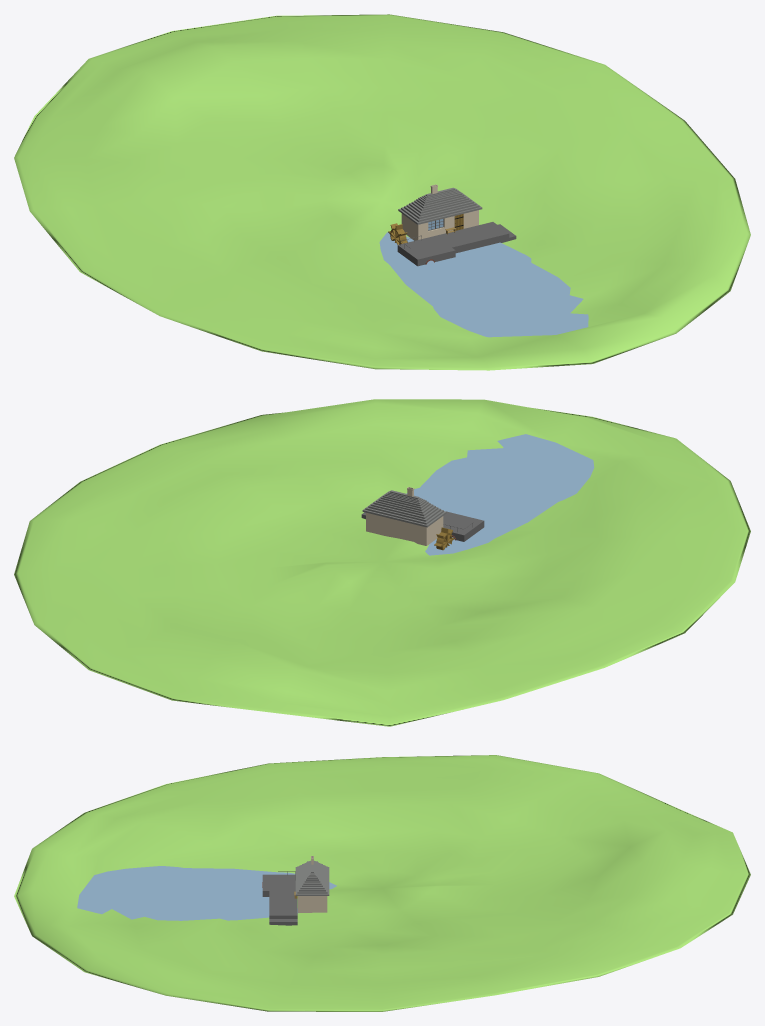
The picture shows the model from 3 angles, top to bottom: view 1: azimuth 30°, elevation 25°; view 2: azimuth 150°, elevation 25°; view 3: azimuth 270°, elevation 25°; orthographic projection. The views are drawn at different scales.
Visible parts, largest first — view 1: hill, water, housebase, polySurface1; view 2: hill, water, housebase, polySurface1; view 3: hill, water, housebase, polySurface1.
Part boxes in pixels (x1,y1,x2,y2): hill: (14,14,750,370); water: (379,232,588,337); housebase: (398,184,482,240); polySurface1: (397,222,516,266); hill: (14,399,750,726); water: (406,434,594,555); housebase: (362,487,446,545); polySurface1: (361,511,484,541); hill: (14,755,750,1011); water: (77,866,336,920); housebase: (295,856,329,912); polySurface1: (262,874,297,925).
Bounding box in the file's own units: 60.89 × 5.82 × 73.43.
